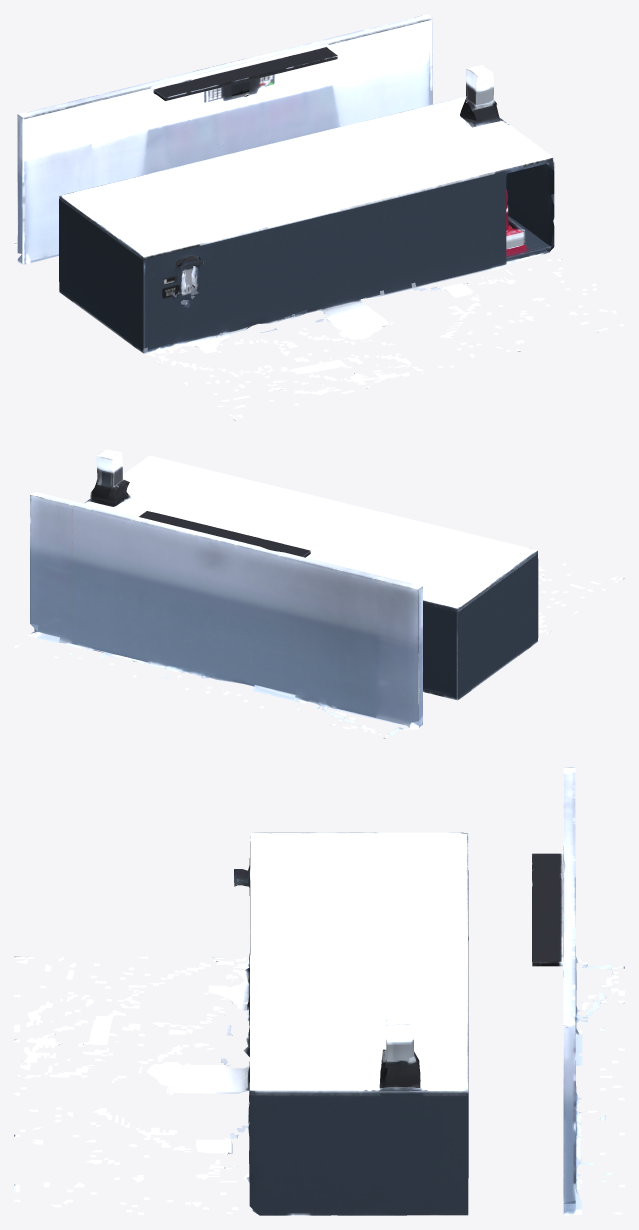
Rendered from CoinSiningRoom.glb.
3 views of the same model, one above another, from view 1: azimuth 30°, elevation 25°; view 2: azimuth 150°, elevation 25°; view 3: azimuth 270°, elevation 25° (orthographic). The views are drawn at different scales.
Visible parts, largest first — view 1: Mesh0; view 2: Mesh0; view 3: Mesh0.
Boxes of the visible parts, x1=… form: Mesh0: x1=14, y1=14, x2=624, y2=420; Mesh0: x1=14, y1=449, x2=624, y2=738; Mesh0: x1=14, y1=767, x2=624, y2=1215.
Size of the model in its own units: 1.91 by 0.6577 by 1.91.
1 material, 1 textured.
